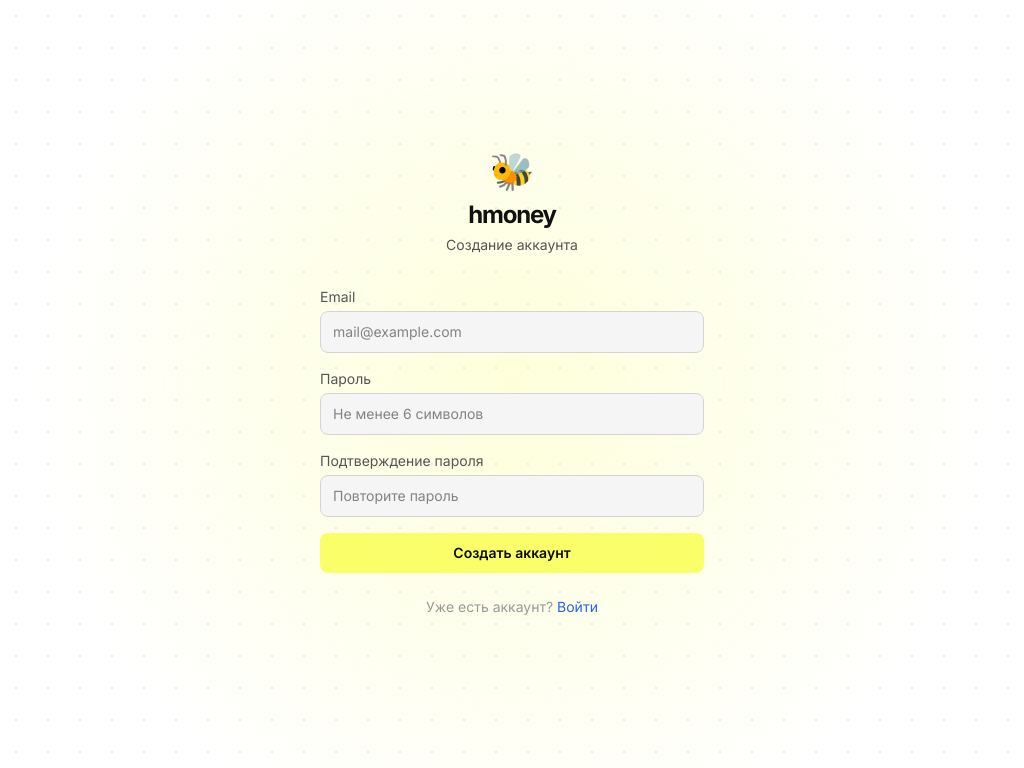
Test case: RegisterPage › shows error on duplicate email
Type "exists@test.com" into the field labelled "Email" at (512, 332), box [320, 311, 704, 353]
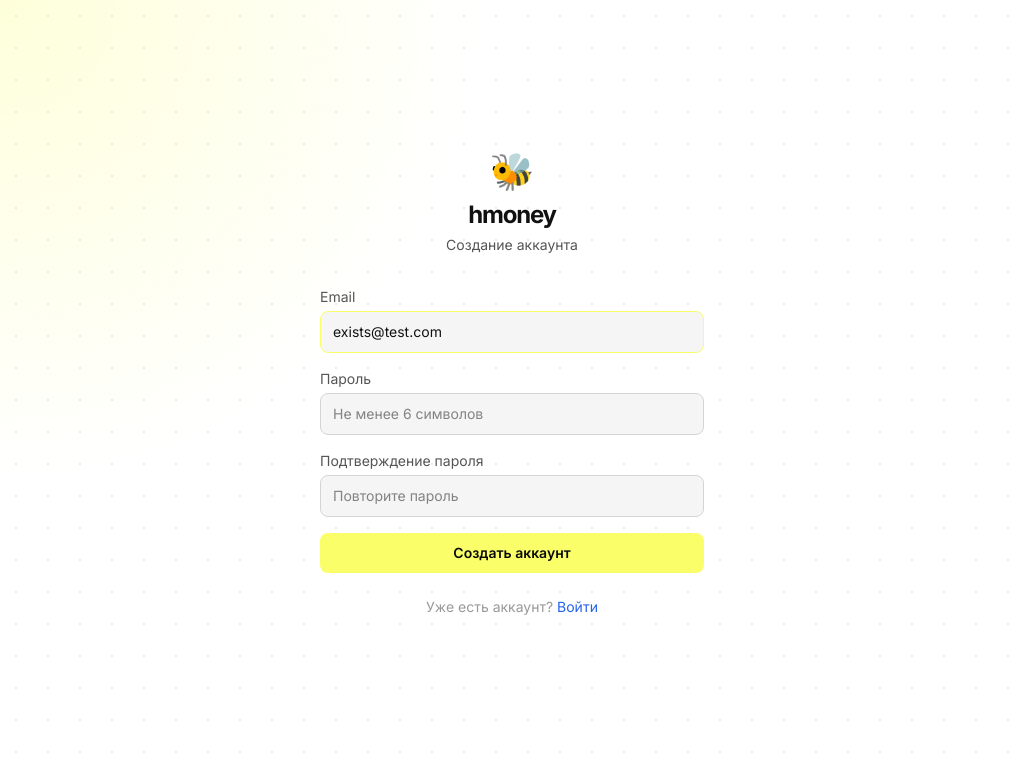
Type "password123" into the password field labelled "Пароль" at (512, 414), box [320, 393, 704, 435]
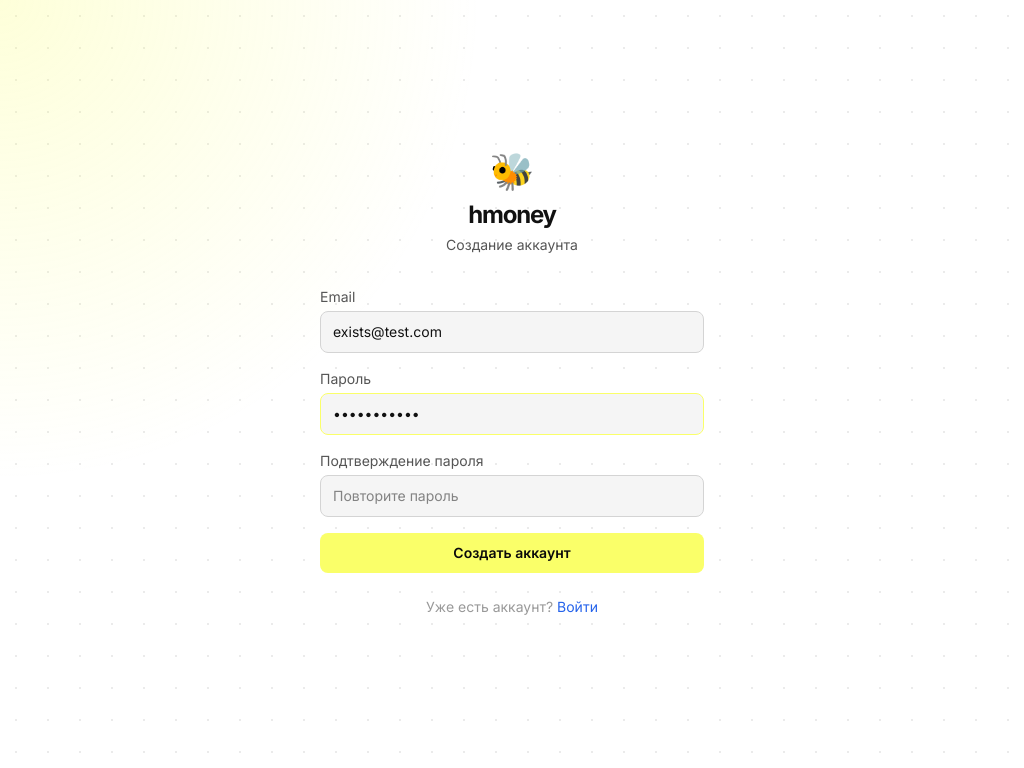
Type "password123" into the password field labelled "Подтверждение пароля" at (512, 496), box [320, 475, 704, 517]
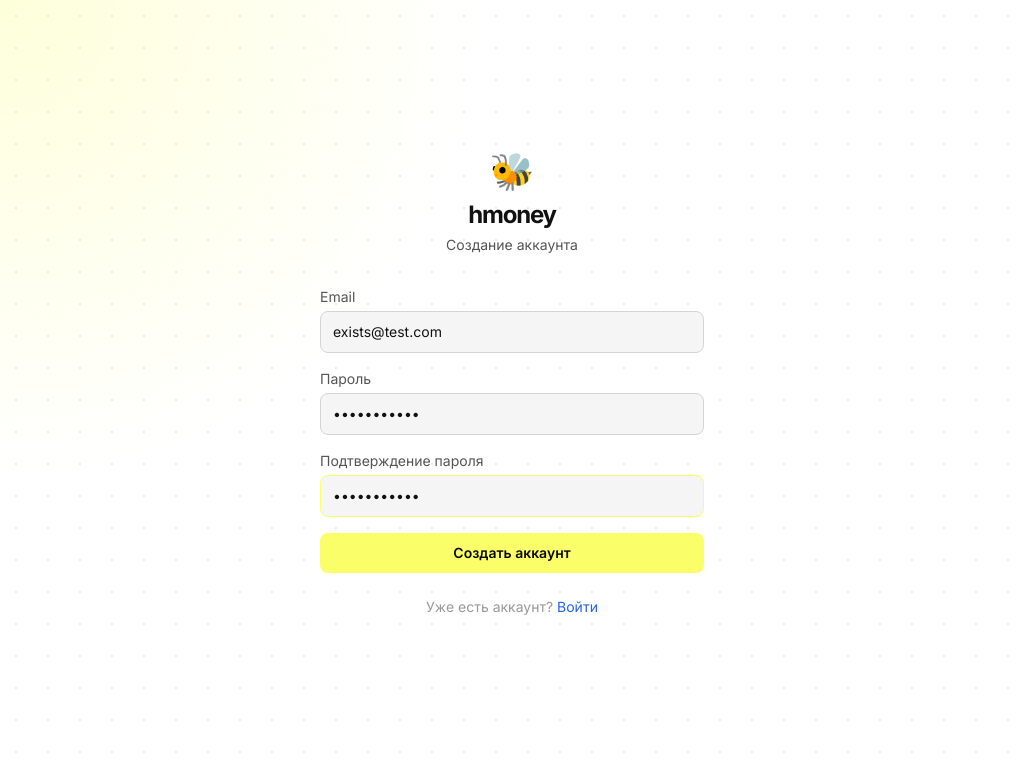
Click the button "Создать аккаунт" at (512, 553), box [320, 533, 704, 573]
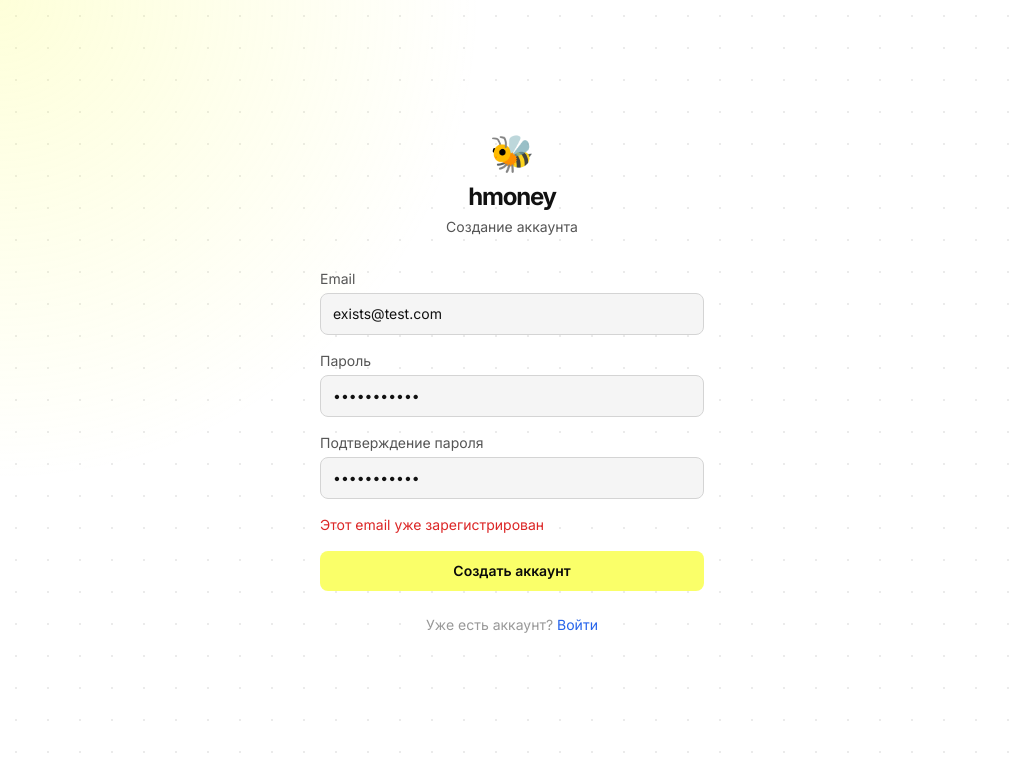
Expected: the text "Этот email уже зарегистрирован" is shown, [320, 516, 544, 533]
